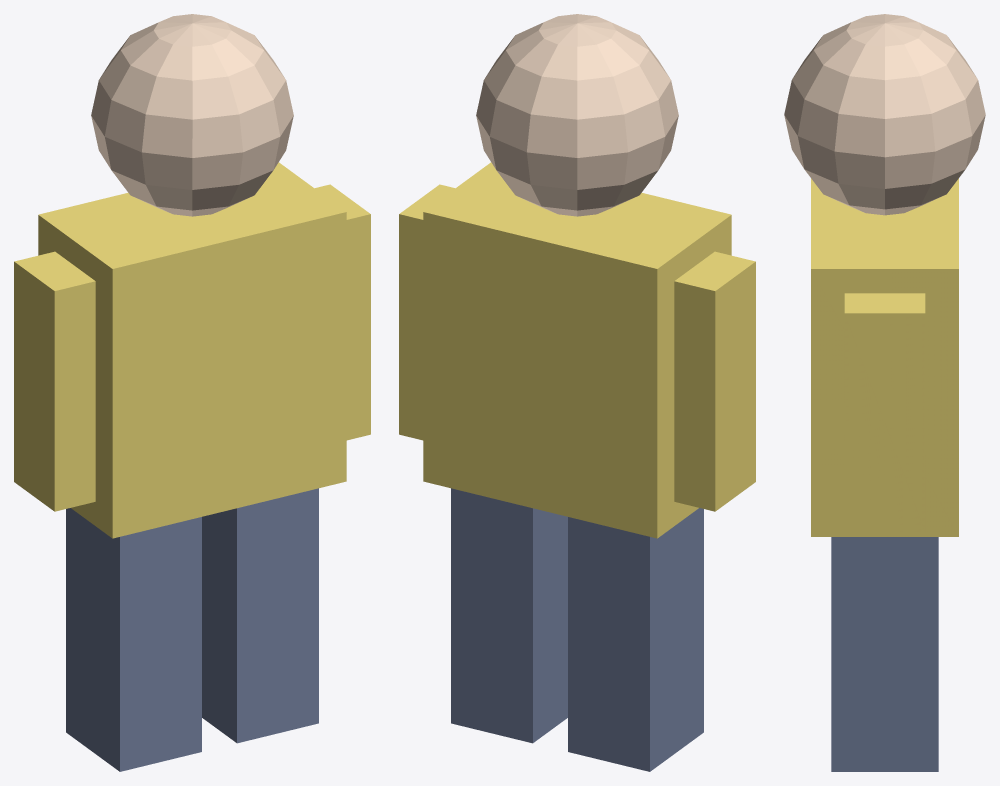
File: citizen_c.glb
3 views of the same model, side by side, from view 1: azimuth 30°, elevation 25°; view 2: azimuth 150°, elevation 25°; view 3: azimuth 270°, elevation 25° (orthographic).
Parts seen in each view (by area): view 1: box, box.001, sphere, box.003, box.002, box.004; view 2: box, box.001, sphere, box.003, box.002, box.004; view 3: sphere, box, box.003, box.004.
Part boxes in pixels (x1,y1,x2,y2): box: [38, 162, 346, 538]; box.001: [66, 508, 201, 771]; sphere: [91, 14, 293, 216]; box.003: [202, 488, 318, 743]; box.002: [14, 251, 95, 511]; box.004: [315, 184, 370, 440]; box: [423, 162, 731, 538]; box.001: [568, 508, 703, 771]; sphere: [476, 14, 678, 216]; box.003: [451, 488, 567, 743]; box.002: [674, 251, 755, 511]; box.004: [399, 184, 454, 440]; sphere: [784, 14, 985, 215]; box: [811, 178, 958, 536]; box.003: [831, 537, 938, 771]; box.004: [844, 293, 925, 532].
Size of the model in its own units: 0.27 by 0.575 by 0.15.
